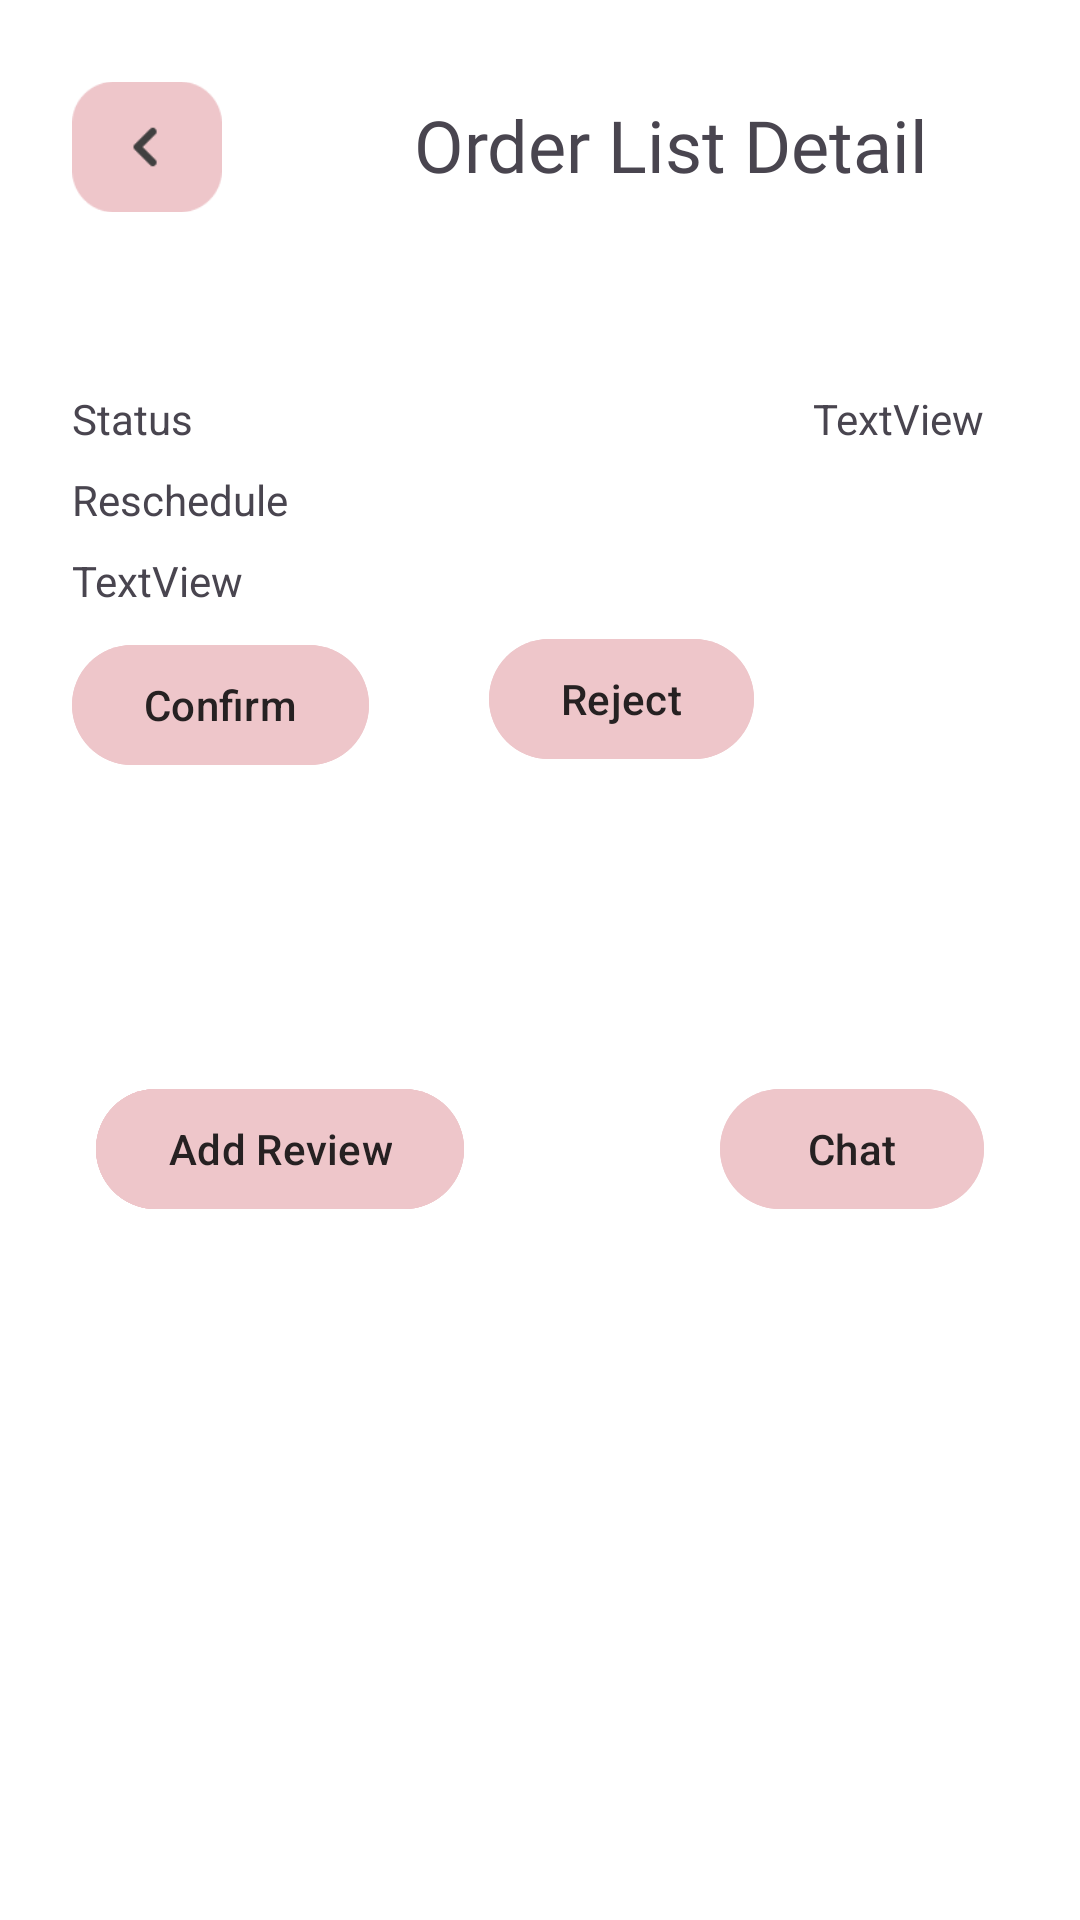

Named icons in this screenshot (1080px×1920px) and their bounding boxes, (x1, y1, x2, y2):
Back Button: (72, 82, 222, 212)
